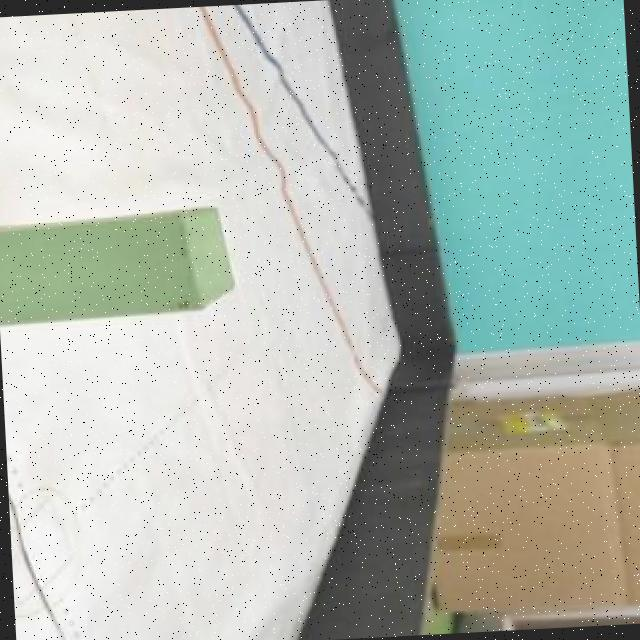greenbox: (0, 202, 241, 326)
